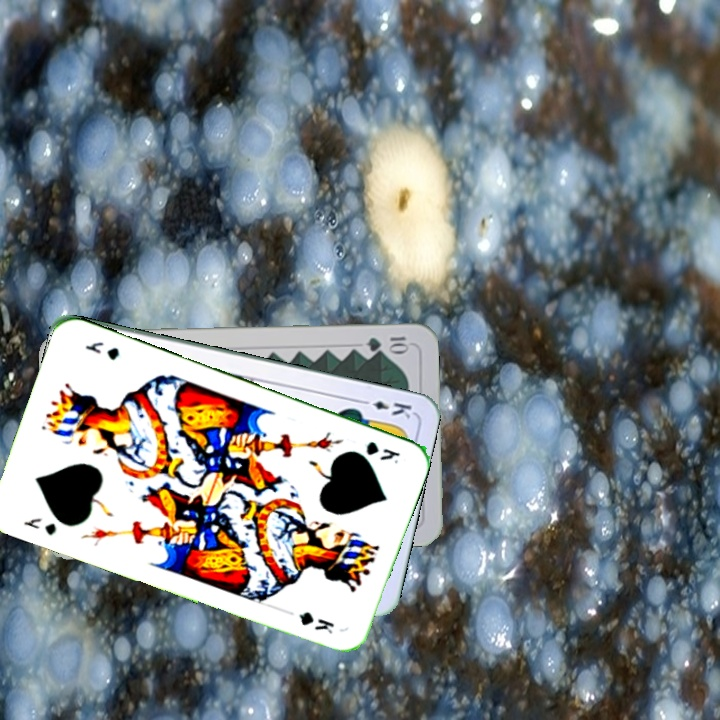EK: (356, 396, 415, 421)
G10: (363, 332, 412, 354)
GK: (361, 437, 403, 466), (19, 513, 59, 538)
